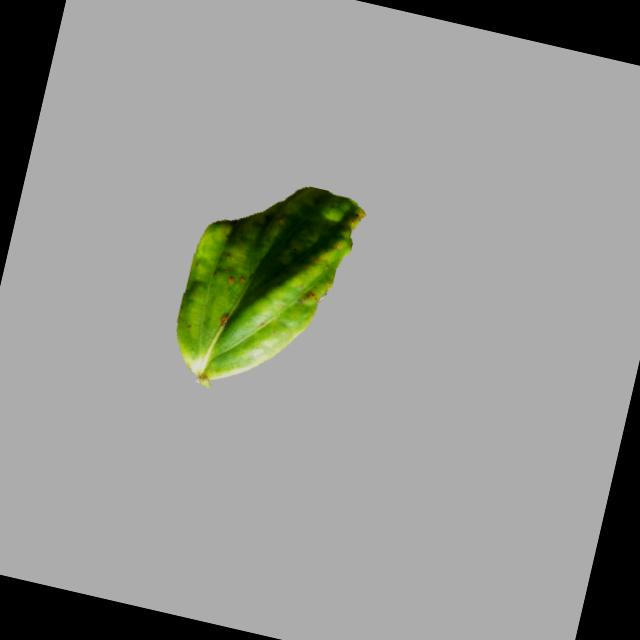yellow-mottle-virus: (162, 163, 372, 416)
